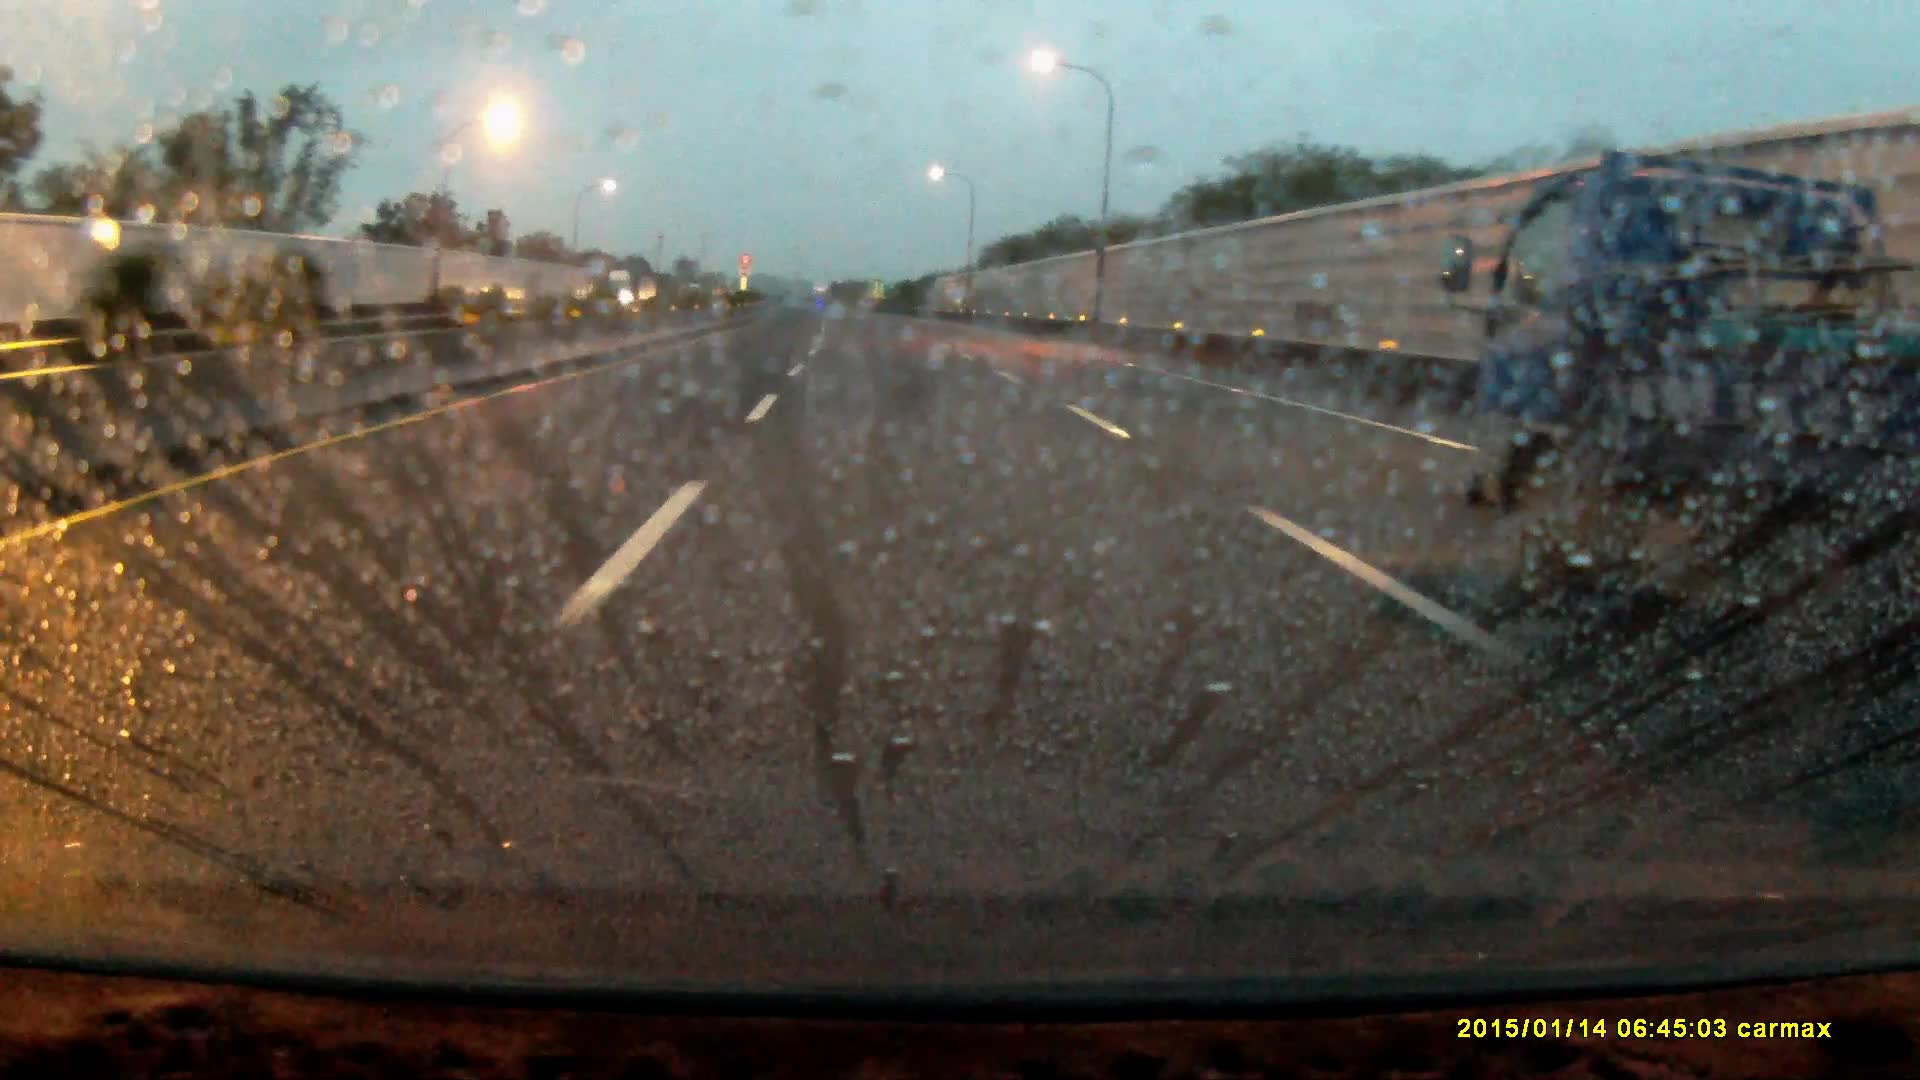vehicle: (1478, 156, 1920, 609), (607, 268, 644, 305)
